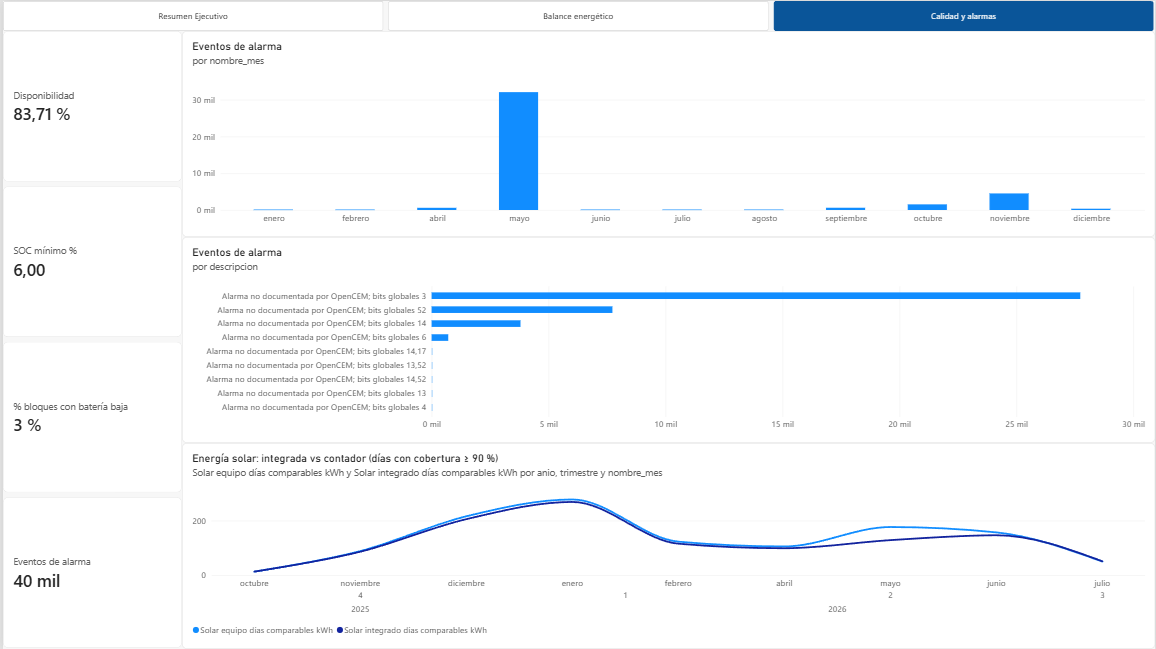

The dashboard page shown, as its layout file describes it:
{"tool":"powerbi","page":{"name":"Calidad y alarmas","canvas":[1920,1080],"ordinal":2},"visuals":[{"type":"cardVisual","fields":{"Data":["Medidas.Disponibilidad","Medidas.SOC mínimo %","Medidas.% bloques con batería baja","Medidas.Eventos de alarma"]},"box":[0,50,298.3,1030],"z":0},{"type":"pageNavigator","box":[0,0,1920,50],"z":1},{"type":"clusteredColumnChart","fields":{"Category":["gold dim_fecha.nombre_mes"],"Y":["Medidas.Eventos de alarma"]},"box":[298.3,50,1621.7,343.3],"z":2},{"type":"clusteredBarChart","fields":{"Category":["gold dim_alarma.descripcion"],"Y":["Medidas.Eventos de alarma"]},"box":[298.3,393.3,1621.7,343.3],"z":3},{"type":"lineChart","title":"Energía solar: integrada vs contador (días con cobertura ≥ 90 %)","fields":{"Category":["gold dim_fecha.Calendario.anio","gold dim_fecha.Calendario.trimestre","gold dim_fecha.Calendario.nombre_mes","gold dim_fecha.Calendario.fecha"],"Y":["Medidas.Solar equipo días comparables kWh","Medidas.Solar integrado días comparables kWh"]},"box":[298.3,736.7,1621.7,343.3],"z":4}]}

Visuals, with their boxes in screenshot pixels (x1, y1, x2, y2), scaled from the page's 1920x1080 canvas onto the 1156x649 screenshot:
cardVisual - Medidas.Disponibilidad x Medidas.SOC mínimo %: [x1=0, y1=30, x2=180, y2=648]
pageNavigator: [x1=0, y1=0, x2=1155, y2=30]
clusteredColumnChart - gold dim_fecha.nombre_mes x Medidas.Eventos de alarma: [x1=180, y1=30, x2=1155, y2=236]
clusteredBarChart - gold dim_alarma.descripcion x Medidas.Eventos de alarma: [x1=180, y1=236, x2=1155, y2=443]
"Energía solar: integrada vs contador (días con cobertura ≥ 90 %)" lineChart: [x1=180, y1=443, x2=1155, y2=648]
